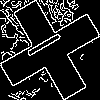I: (25, 25, 71, 60)
